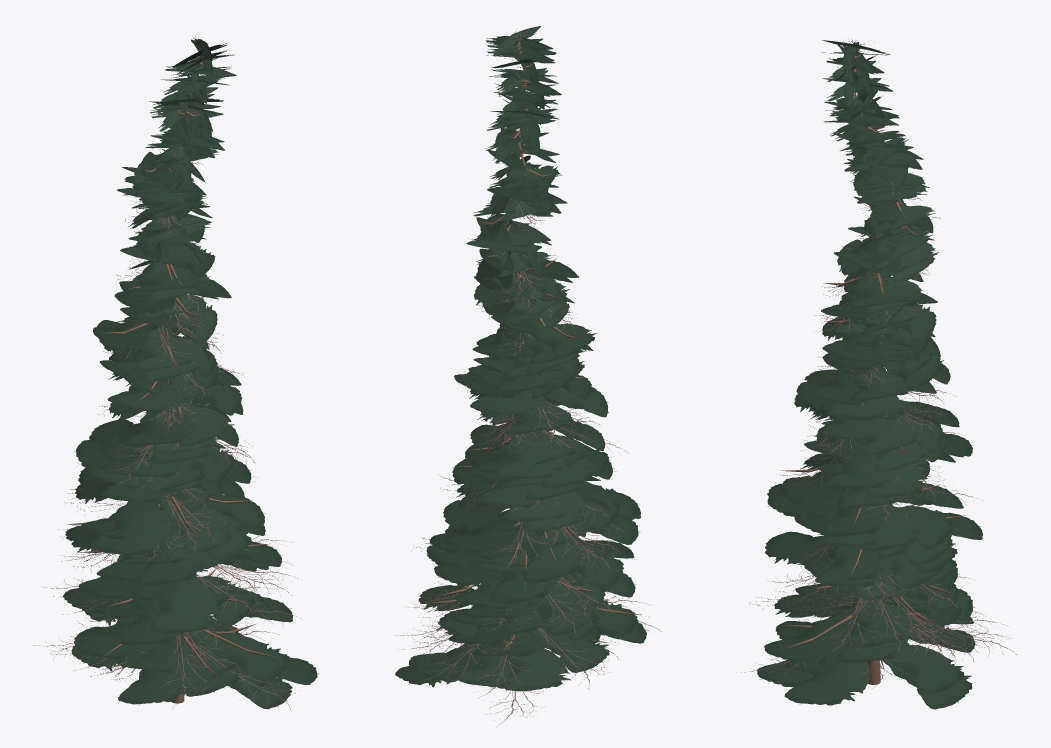
Rendered from Random Trees.001.fbx.
The picture shows the model from 3 angles, left to right: view 1: azimuth 30°, elevation 25°; view 2: azimuth 150°, elevation 25°; view 3: azimuth 270°, elevation 25°; orthographic projection. The views are drawn at different scales.
Visible parts, largest first — view 1: Random Trees.001; view 2: Random Trees.001; view 3: Random Trees.001.
Part boxes in pixels (left/top/right/bottom): Random Trees.001: left=33, top=36, right=319, bottom=709; Random Trees.001: left=395, top=26, right=661, bottom=724; Random Trees.001: left=741, top=38, right=1016, bottom=709.
Size of the model in its own units: 2079 by 4583 by 2088.
